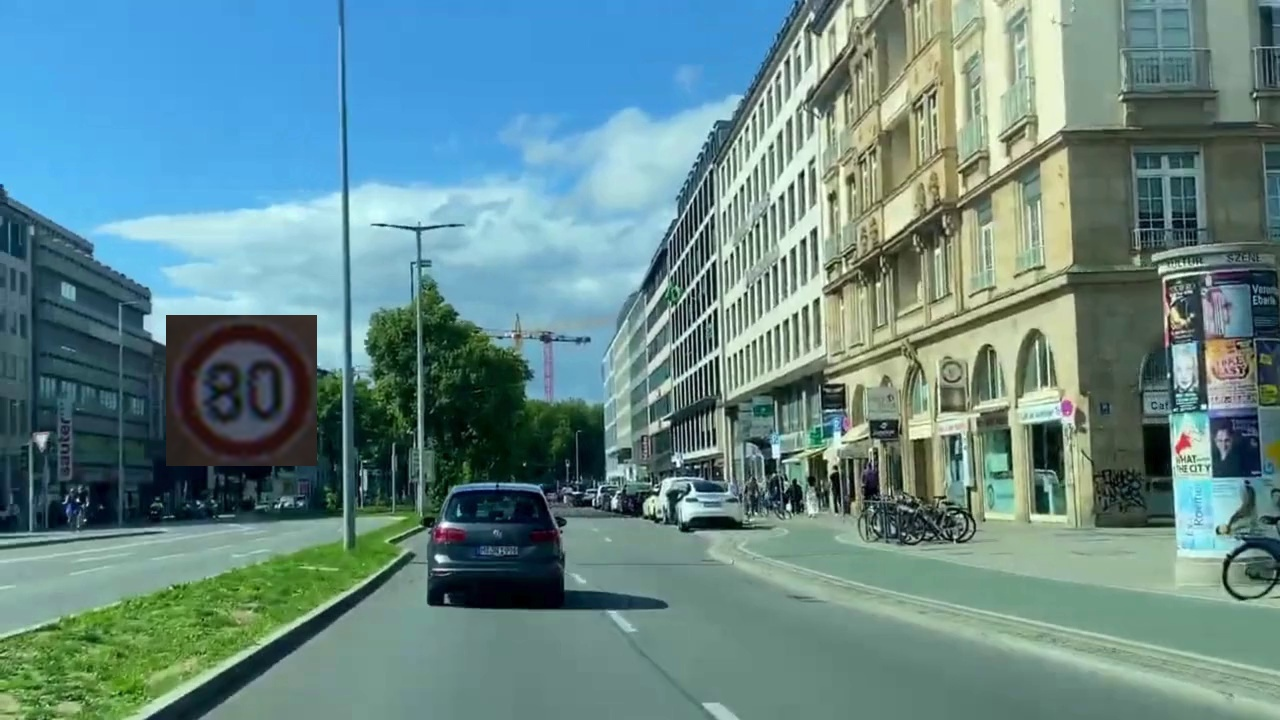Speed 80: (166, 315, 317, 466)
